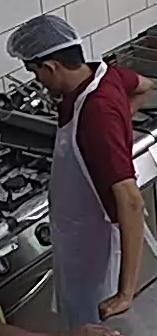apron: (8, 35, 119, 279)
